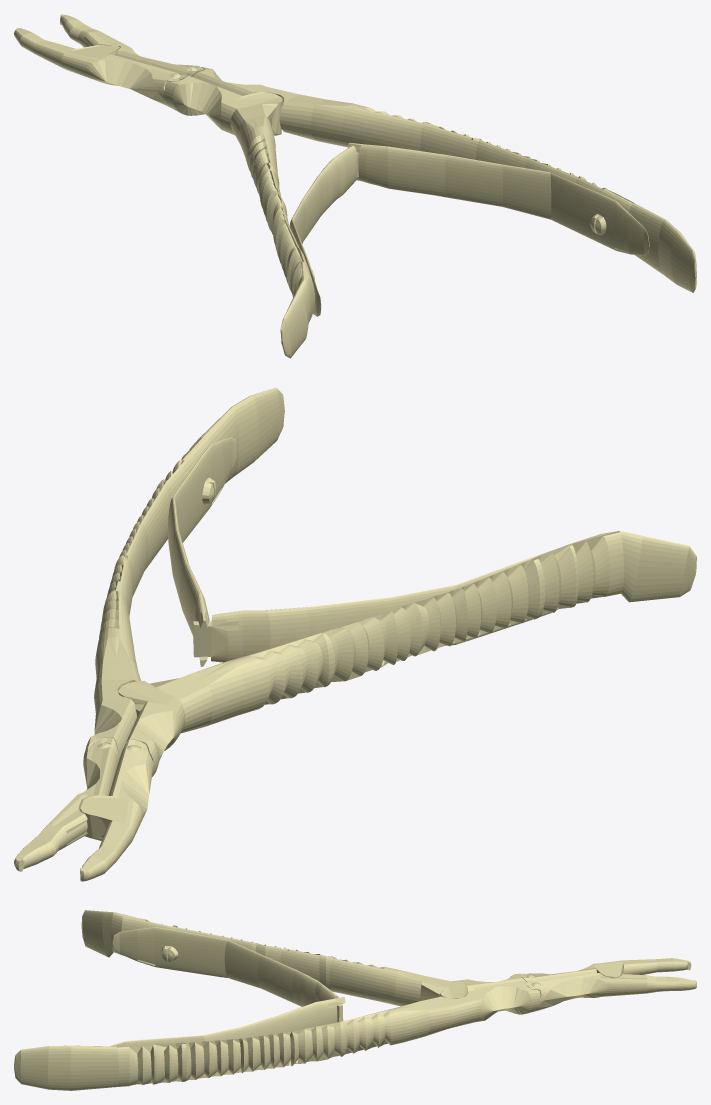
Rendered from TangGougeLeksellBojdBred.fbx.
3 views of the same model, one above another, from view 1: azimuth 30°, elevation 25°; view 2: azimuth 150°, elevation 25°; view 3: azimuth 270°, elevation 25° (orthographic). The views are drawn at different scales.
Parts seen in each view (by area): view 1: Right, Left; view 2: Left, Right; view 3: Right, Left.
Boxes of the visible parts, <box> form: Right: <box>60,14,696,292</box>; Left: <box>14,28,358,358</box>; Left: <box>80,531,696,881</box>; Right: <box>14,387,284,871</box>; Right: <box>14,973,696,1090</box>; Left: <box>81,910,691,1022</box>.
Size of the model in its own units: 159 by 23.02 by 304.
